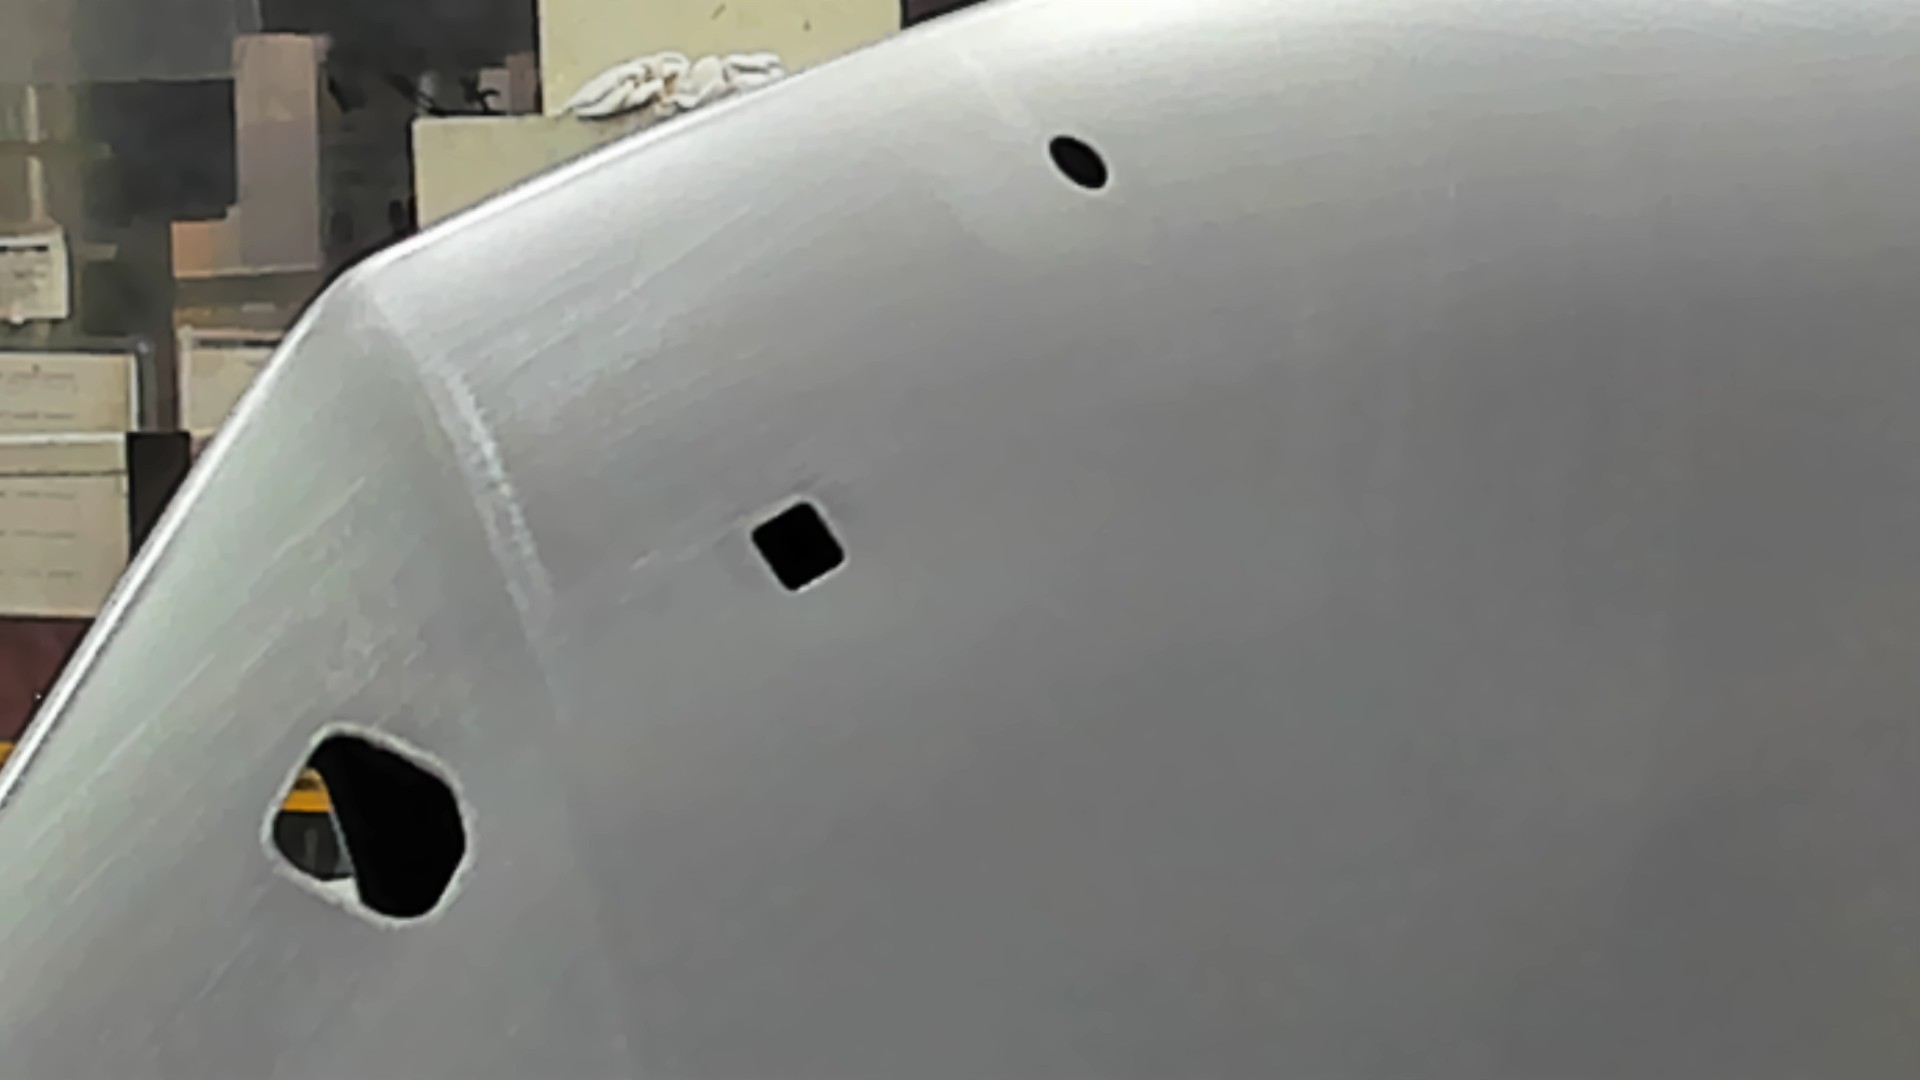capo: (858, 200, 1920, 1080)
chico: (1046, 132, 1110, 193)
grande: (256, 717, 473, 940)
mediano: (742, 495, 855, 601)
